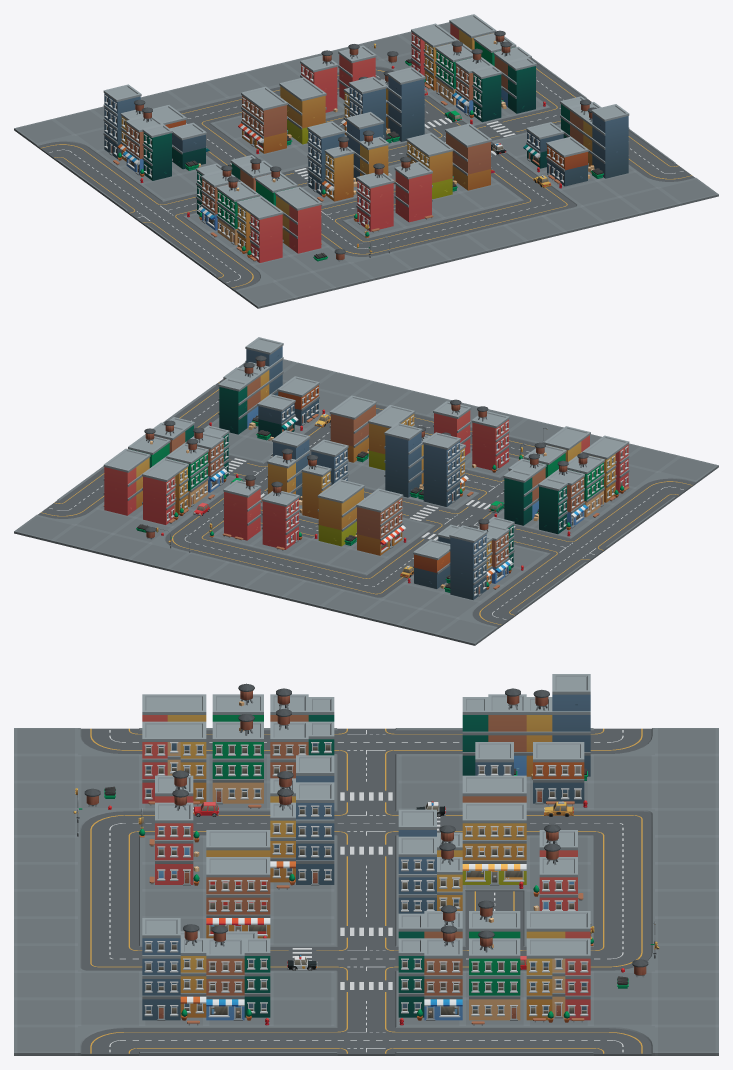
Rendered from World.glb.
3 views of the same model, one above another, from view 1: azimuth 30°, elevation 25°; view 2: azimuth 150°, elevation 25°; view 3: azimuth 270°, elevation 25° (orthographic). The views are drawn at different scales.
Parts seen in each view (by area): view 1: building_H-col, building_H.004-col, building_G.001-col, building_G.003-col, building_E.001-col, building_F.001-col, building_H.003-col, building_F-col, building_E.003-col, building_G.005-col, building_C-col, building_C.001-col (+76 smaller); view 2: building_H-col, building_H.001-col, building_G.002-col, building_E.001-col, building_F.002-col, building_H.002-col, building_G.004-col, building_E-col, building_F.003-col, building_C.003-col, building_C-col, building_G-col (+73 smaller); view 3: building_H.002-col, building_H.004-col, building_G.004-col, building_G.005-col, building_E-col, building_F.003-col, building_D.003-col, building_D-col, building_E.003-col, building_H.003-col, building_H.001-col, building_C.001-col (+99 smaller).
Boxes of the visible parts, x1=… form: building_H-col: x1=302, y1=121, x2=357, y2=204; building_H.004-col: x1=582, y1=104, x2=635, y2=180; building_G.001-col: x1=119, y1=107, x2=179, y2=183; building_G.003-col: x1=449, y1=48, x2=508, y2=124; building_E.001-col: x1=234, y1=86, x2=294, y2=155; building_F.001-col: x1=230, y1=196, x2=289, y2=264; building_H.003-col: x1=379, y1=67, x2=429, y2=143; building_F-col: x1=275, y1=186, x2=328, y2=255; building_E.003-col: x1=445, y1=123, x2=498, y2=192; building_G.005-col: x1=493, y1=41, x2=546, y2=115; building_C-col: x1=345, y1=163, x2=405, y2=236; building_C.001-col: x1=393, y1=156, x2=443, y2=227; building_H-col: x1=416, y1=432, x2=476, y2=508; building_H.001-col: x1=443, y1=525, x2=502, y2=601; building_G.002-col: x1=531, y1=460, x2=591, y2=536; building_E.001-col: x1=350, y1=488, x2=409, y2=557; building_F.002-col: x1=135, y1=458, x2=194, y2=526; building_H.002-col: x1=380, y1=423, x2=429, y2=499; building_G.004-col: x1=209, y1=362, x2=261, y2=436; building_E-col: x1=311, y1=479, x2=364, y2=548; building_F.003-col: x1=97, y1=448, x2=150, y2=517; building_C.003-col: x1=250, y1=481, x2=310, y2=554; building_C-col: x1=465, y1=406, x2=518, y2=476; building_G-col: x1=494, y1=453, x2=546, y2=527; building_H.002-col: x1=270, y1=782, x2=334, y2=890; building_H.004-col: x1=142, y1=918, x2=206, y2=1025; building_G.004-col: x1=206, y1=925, x2=270, y2=1025; building_G.005-col: x1=398, y1=925, x2=462, y2=1025; building_E-col: x1=462, y1=802, x2=526, y2=891; building_F.003-col: x1=526, y1=938, x2=590, y2=1025; building_D.003-col: x1=462, y1=930, x2=526, y2=1025; building_D-col: x1=206, y1=714, x2=270, y2=809; building_E.003-col: x1=206, y1=857, x2=270, y2=938; building_H.003-col: x1=398, y1=836, x2=462, y2=913; building_H.001-col: x1=526, y1=674, x2=590, y2=781; building_C.001-col: x1=142, y1=789, x2=206, y2=890.
Size of the model in its own units: 192 by 24.4 by 176.
Materials: 1 (1 with a texture image).
